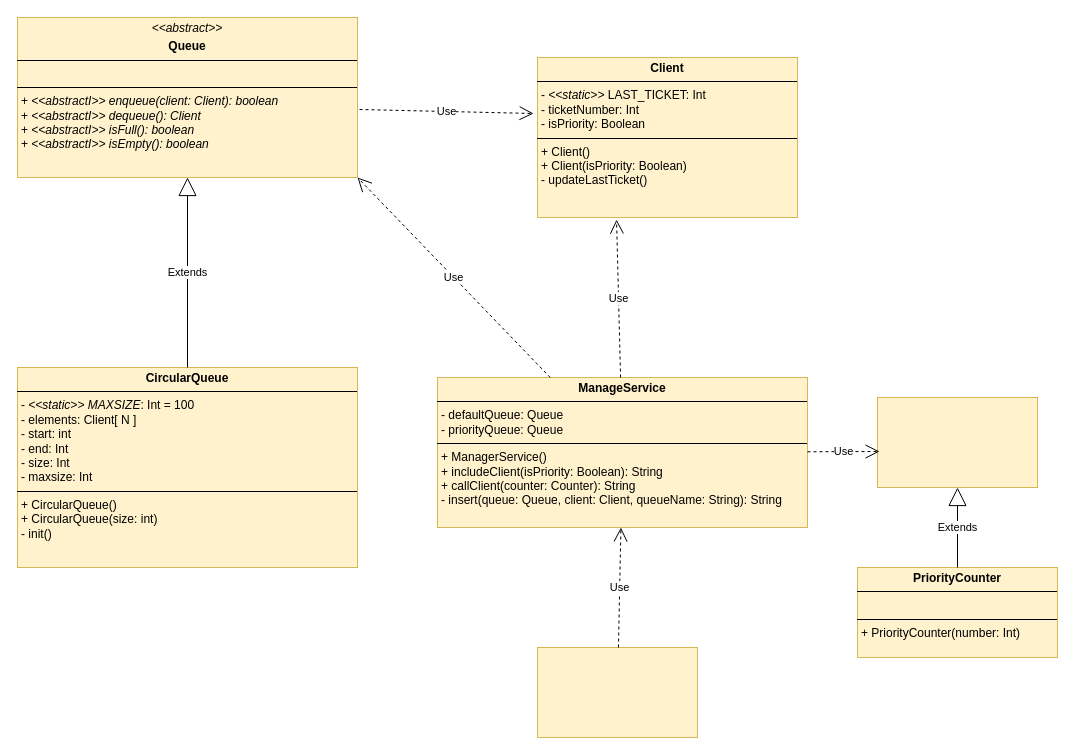
This 1075x755 diagram has some shape labels left out. The centre of each missing label's shape, as x and y in pixels:
"ClientCode + <<static>> main ()" goes at (x=617, y=692).
"Counter - number: Int + Counter(number: Int)" goes at (x=957, y=442).
